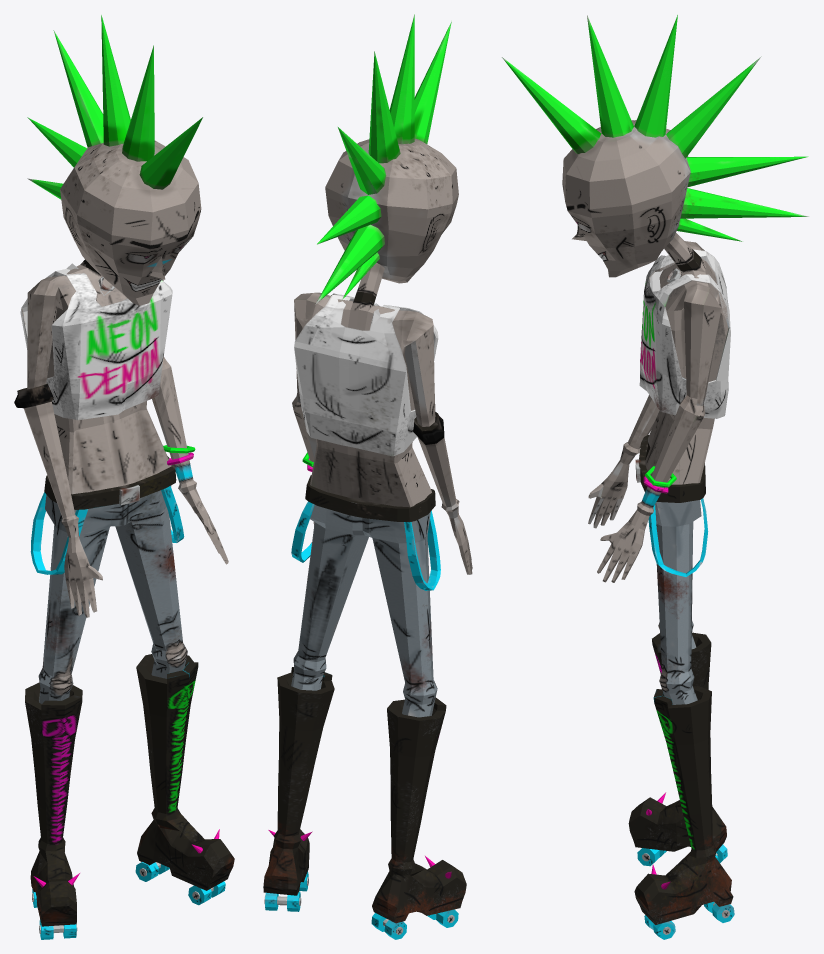
File: punkAnimation_000034.obj
3 views of the same model, side by side, from view 1: azimuth 30°, elevation 25°; view 2: azimuth 150°, elevation 25°; view 3: azimuth 270°, elevation 25° (orthographic). The views are drawn at different scales.
Visible parts, largest first — view 1: Cube.004_Cube.003; view 2: Cube.004_Cube.003; view 3: Cube.004_Cube.003.
Boxes of the visible parts, <box> form: Cube.004_Cube.003: <box>14,15,234,939</box>; Cube.004_Cube.003: <box>263,14,472,939</box>; Cube.004_Cube.003: <box>502,15,809,939</box>.
Bounding box in the file's own units: 1.72 × 7.53 × 2.41.
